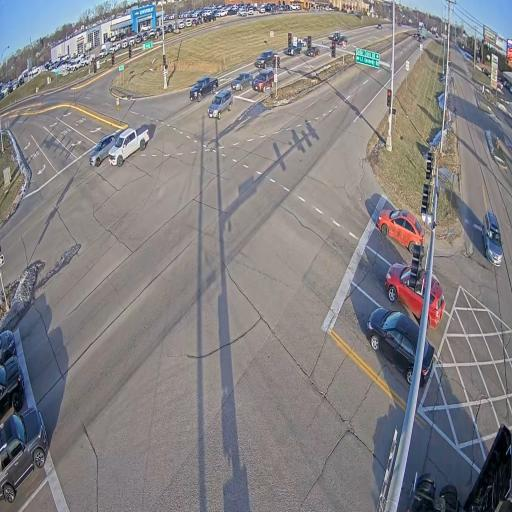pickup: (108, 128, 149, 166), (189, 77, 218, 101)
sedan: (366, 307, 419, 385), (377, 210, 424, 253), (420, 339, 434, 387), (0, 329, 16, 364), (231, 73, 252, 91), (306, 46, 319, 56), (337, 36, 347, 45)
suv: (0, 407, 49, 503), (385, 263, 426, 320), (0, 355, 24, 418), (427, 274, 445, 328), (89, 136, 116, 166), (207, 89, 233, 119), (252, 68, 274, 92), (256, 50, 275, 67), (287, 41, 301, 55), (333, 32, 341, 41), (377, 23, 382, 29), (414, 33, 418, 38), (398, 21, 402, 26), (419, 36, 422, 42)
van: (481, 210, 502, 265)
